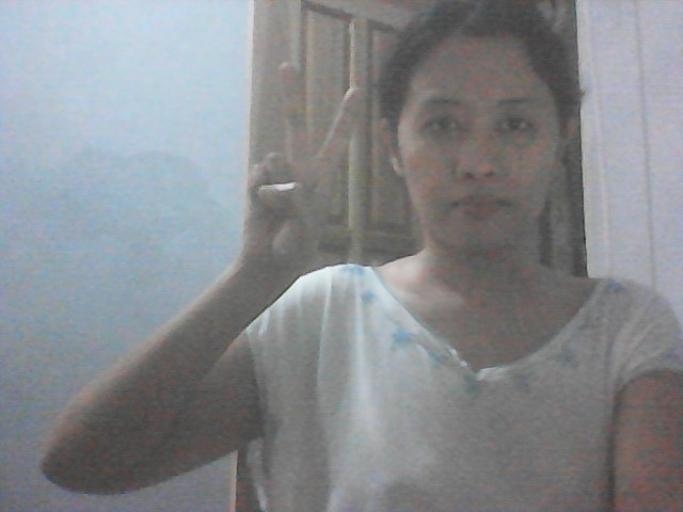peace: (236, 57, 367, 270)
